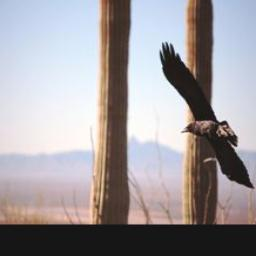Crow: (156, 39, 255, 192)
